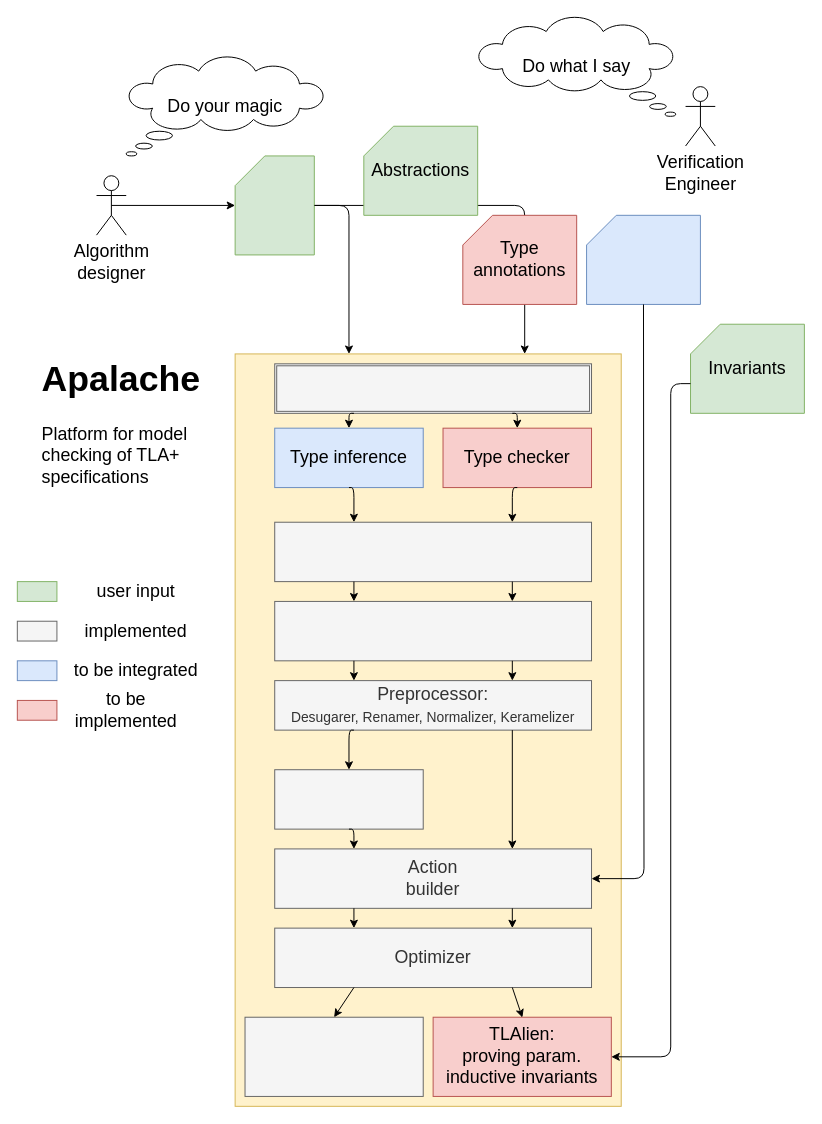
Some shapes in this 822 by 1124 pixel diagram are drawn without their labels. Here are the shapes that lost their labels. From the top down, the centre of each, then its label:
At point (274, 205): "TLA+ spec".
At point (643, 259): "Assignment annotations".
At point (433, 388): "SANY parser".
At point (433, 551): "Unroller of recursive definitions and functions".
At point (433, 630): "Inliner of user-defined operators".
At point (348, 799): "Assignment finder".
At point (333, 1056): "TLAtor: checking bounded executions with z3".
